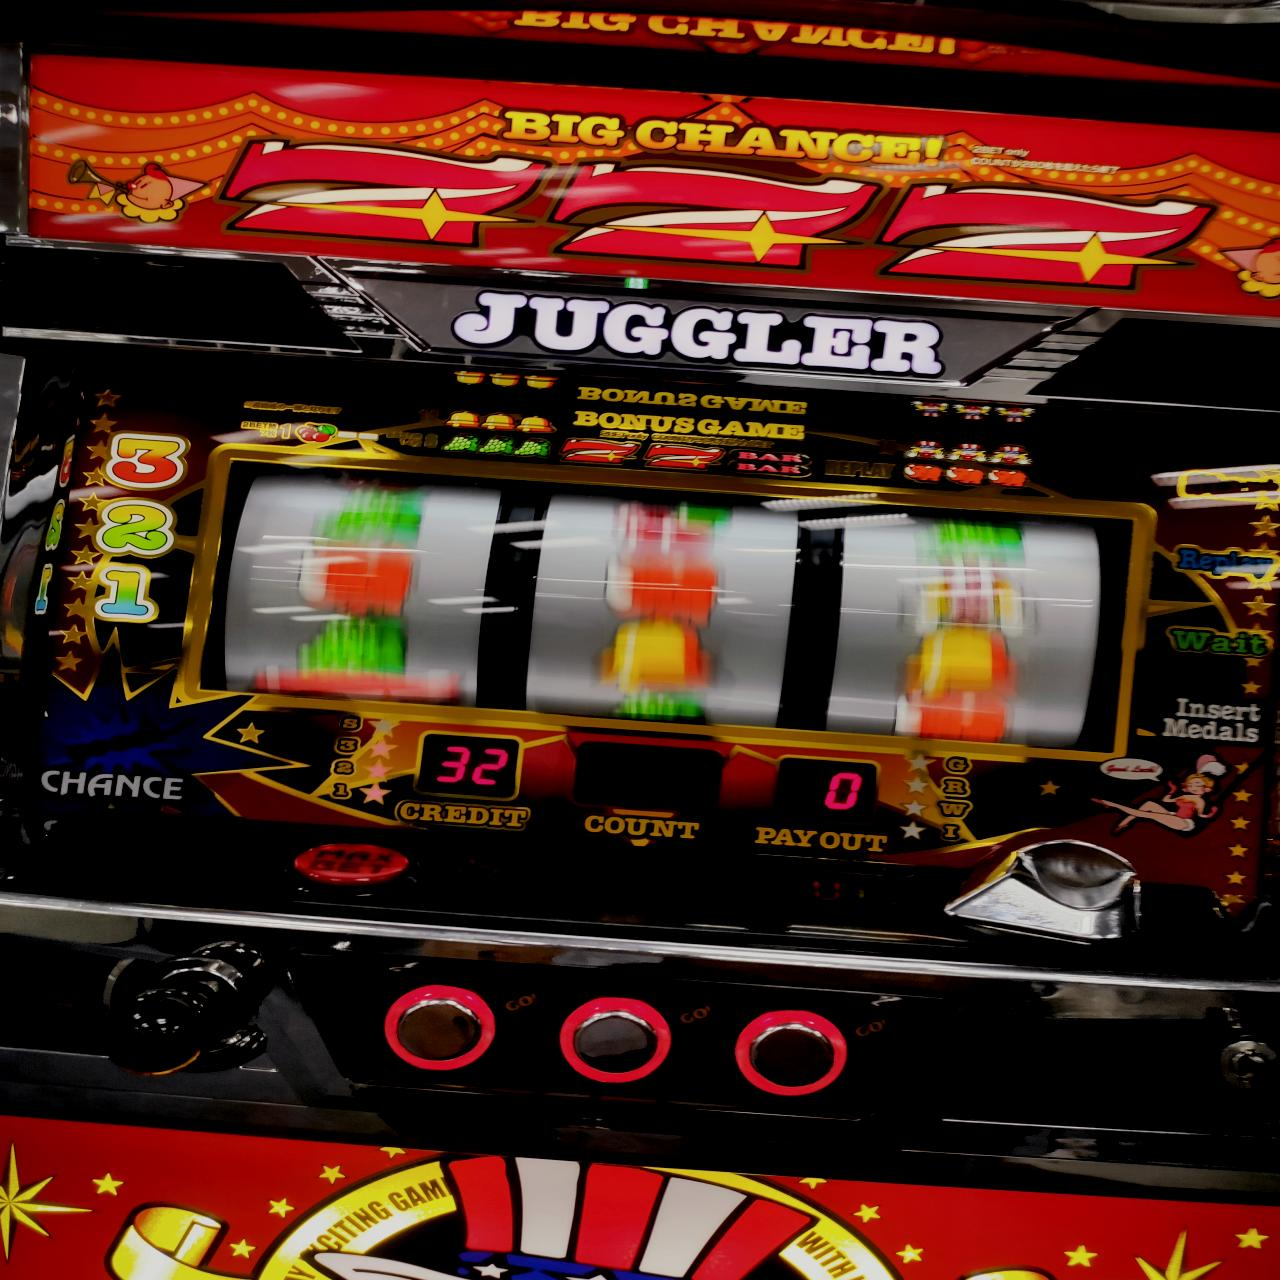rhino: (206, 449, 1122, 756)
